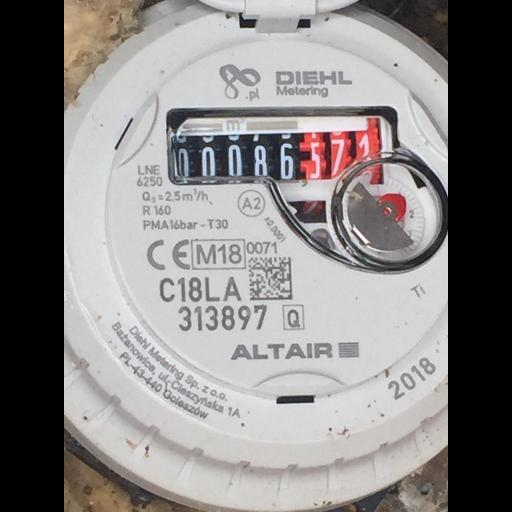0: (195, 135, 223, 179), (223, 133, 249, 179), (172, 135, 196, 182)
1: (354, 118, 380, 163)
5: (298, 131, 328, 181)
6: (276, 133, 301, 182)
7: (326, 131, 356, 180)
8: (248, 132, 274, 179)
border_water_meter_number: (166, 105, 399, 186)
